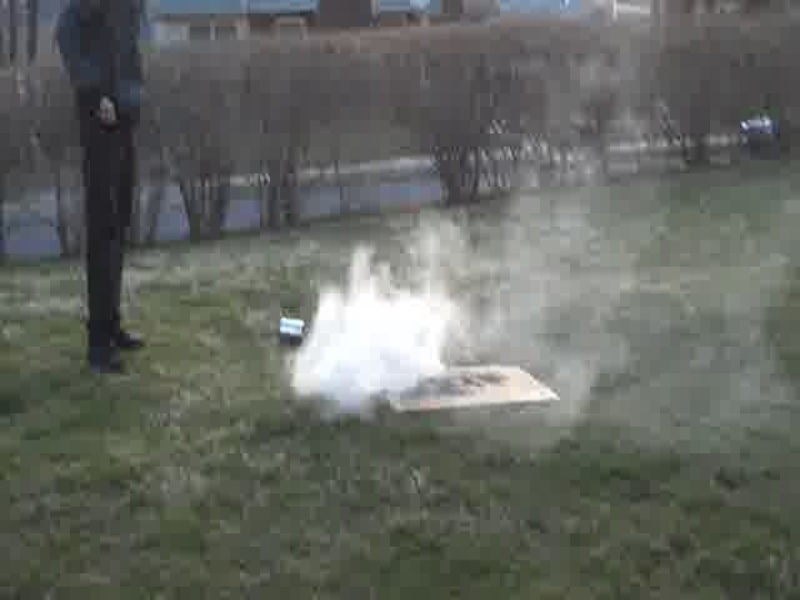smoke: (307, 267, 442, 402)
